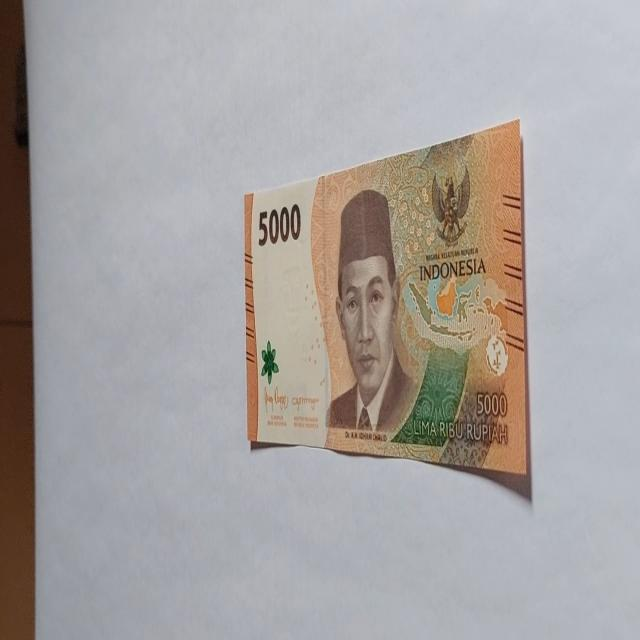lima ribu rupiah: (243, 118, 531, 500), (326, 188, 420, 438)
